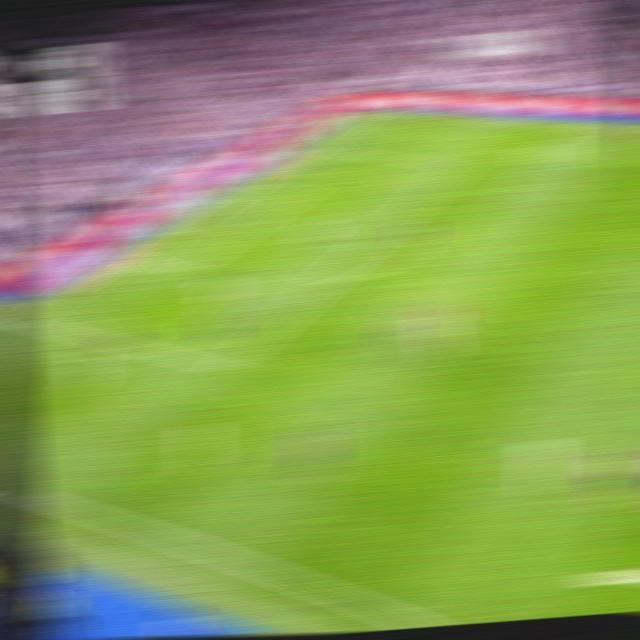bigarea_bottom_inner: (209, 355, 240, 378)
bigarea_bottom_outter: (6, 312, 38, 329)
bigarea_top_inner: (446, 158, 472, 171)
bigarea_top_outter: (299, 143, 325, 152)
bottom_arc_area_intersection: (310, 275, 340, 288)
corner: (354, 107, 384, 116)
smallarea_bottom_inner: (170, 261, 199, 278)
smallarea_top_inner: (289, 185, 314, 195)
top_arc_area_intersection: (391, 205, 420, 218)
